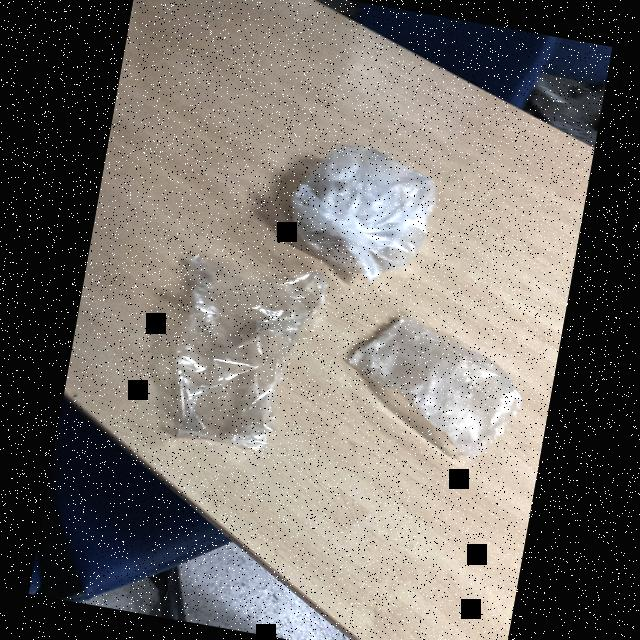plastic_bag: (266, 126, 458, 302)
scrap_plastic: (130, 235, 342, 472), (325, 287, 539, 488)
